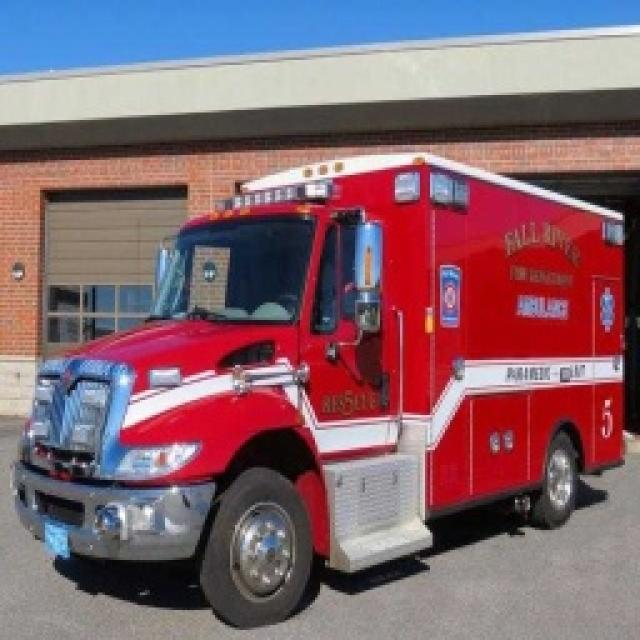emergency-vehicle: (19, 153, 623, 627)
